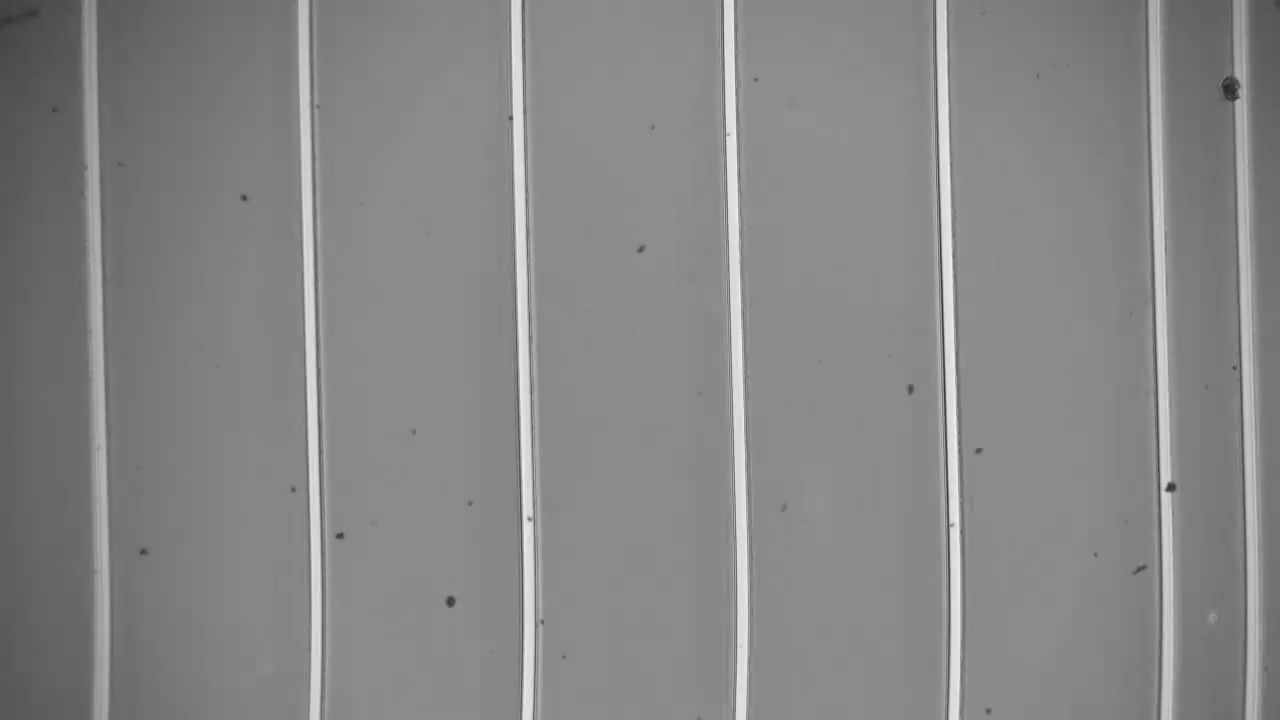stains_enbedded: (1214, 73, 1264, 110), (1149, 478, 1188, 499)
